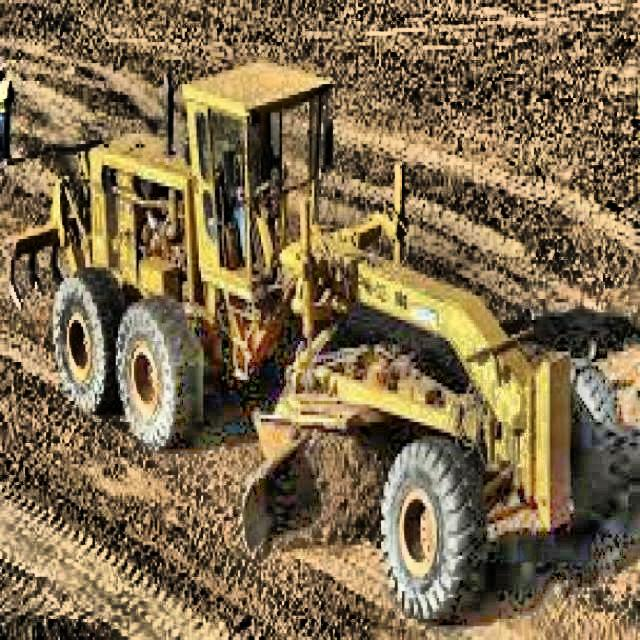bull_dozer/loader/grader: (8, 58, 621, 626)
person: (226, 122, 288, 267)
